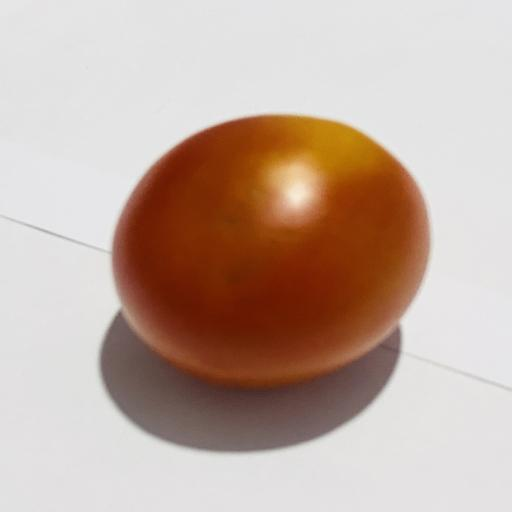ripe: (113, 116, 429, 387)
